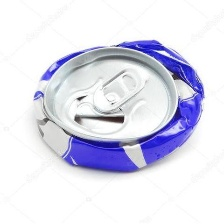can: (30, 36, 211, 179)
